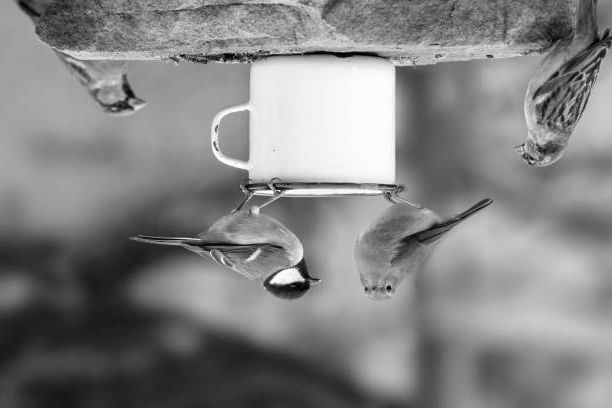Bird: (129, 174, 324, 302), (350, 183, 494, 310), (511, 13, 610, 170), (50, 48, 148, 116)
